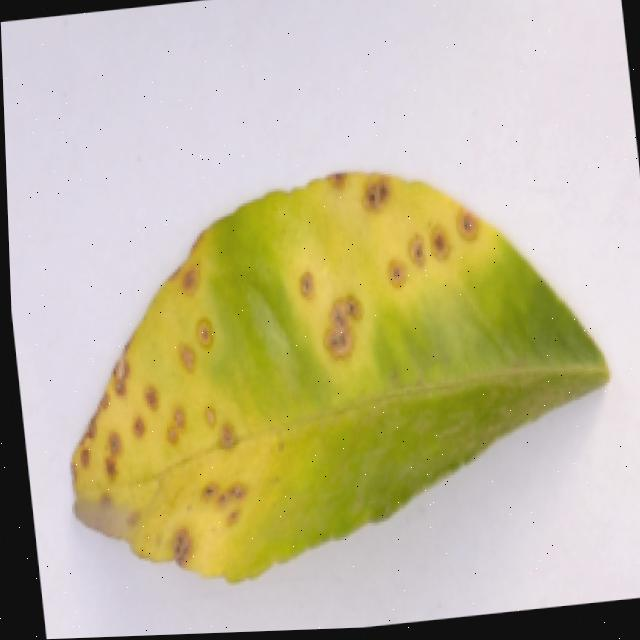canker: (75, 171, 603, 579), (32, 241, 255, 611), (341, 150, 506, 310), (277, 255, 383, 372)
